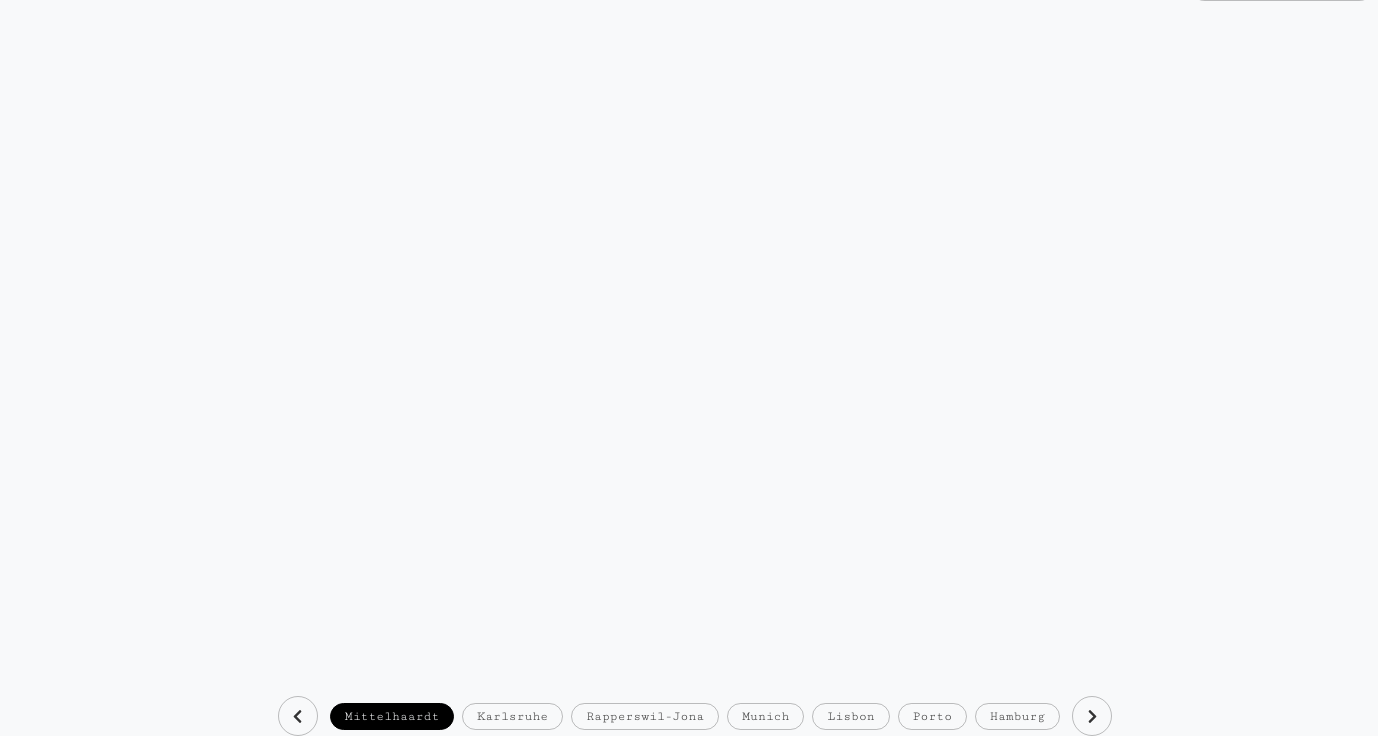
Test case: Journey section › shows the chapter text for the selected stop
(page scrolled)
Click the button "Munich" at [766, 716], box [727,703,804,730]
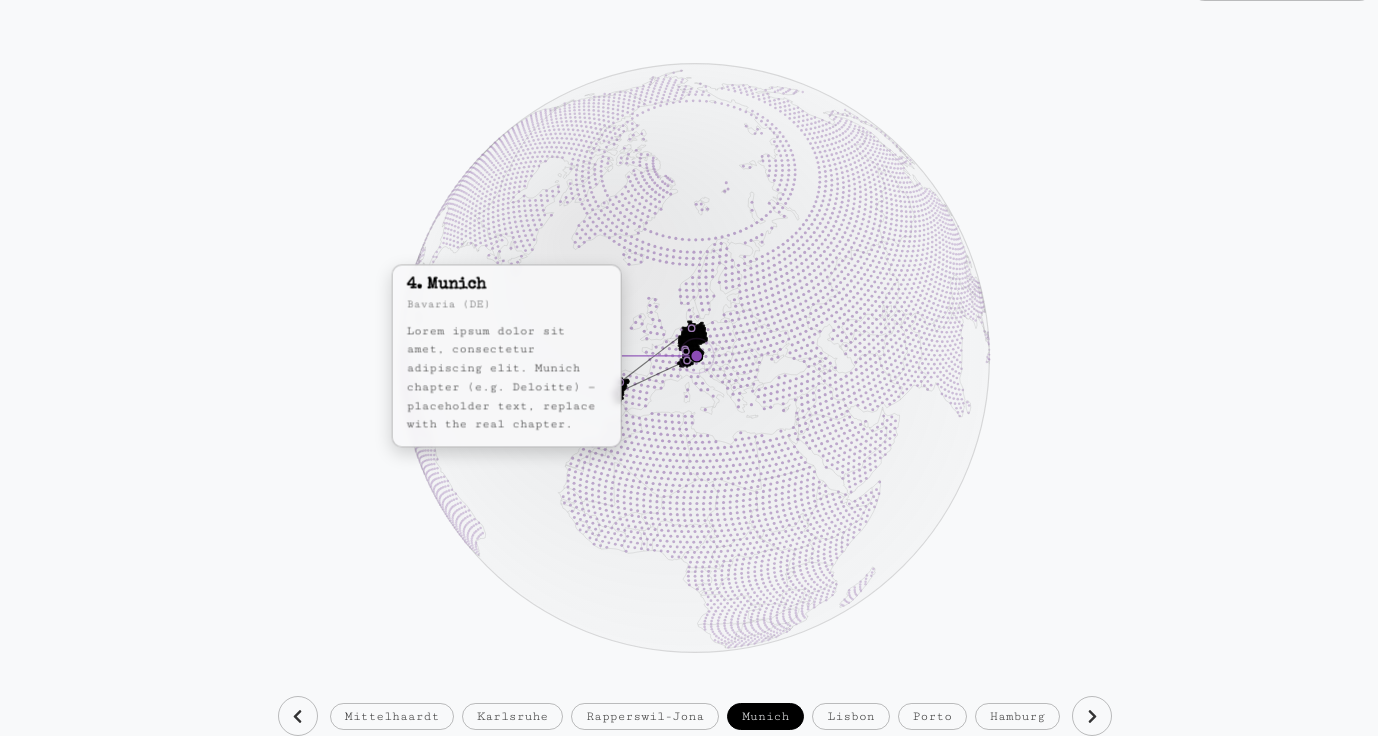
Expected: the heading "4. Munich" is shown, [407,278,486,294]
